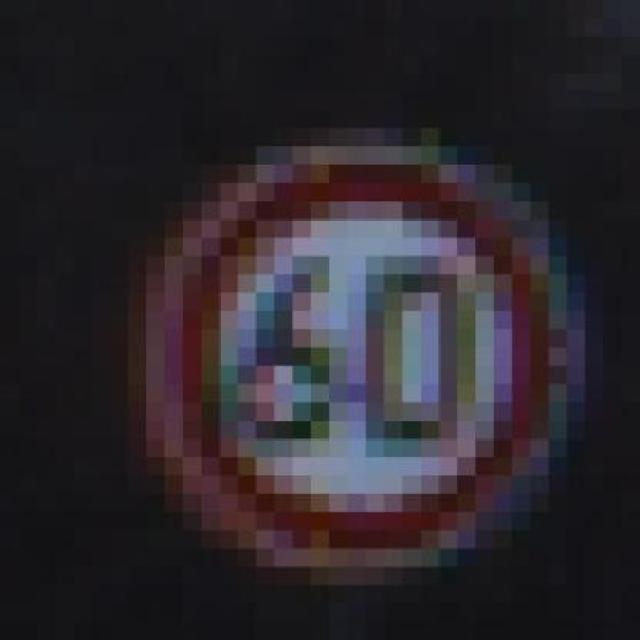forb_speed_over_60: (168, 149, 561, 555)
